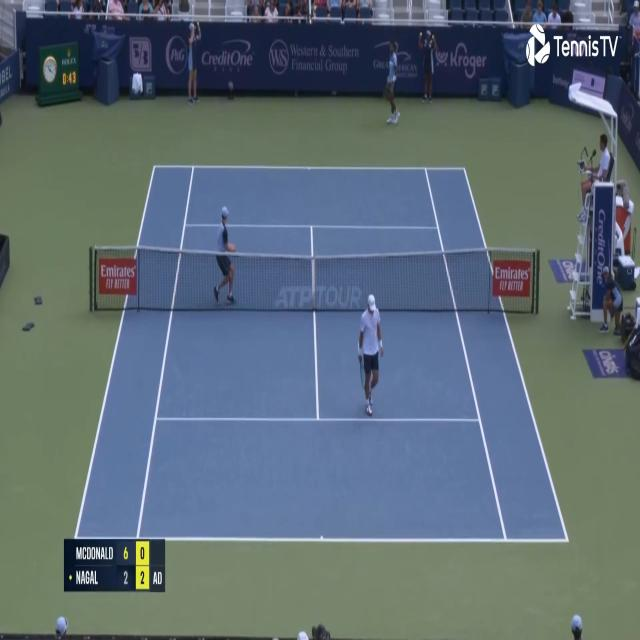tennis-player: (356, 290, 384, 418), (382, 41, 402, 126)
